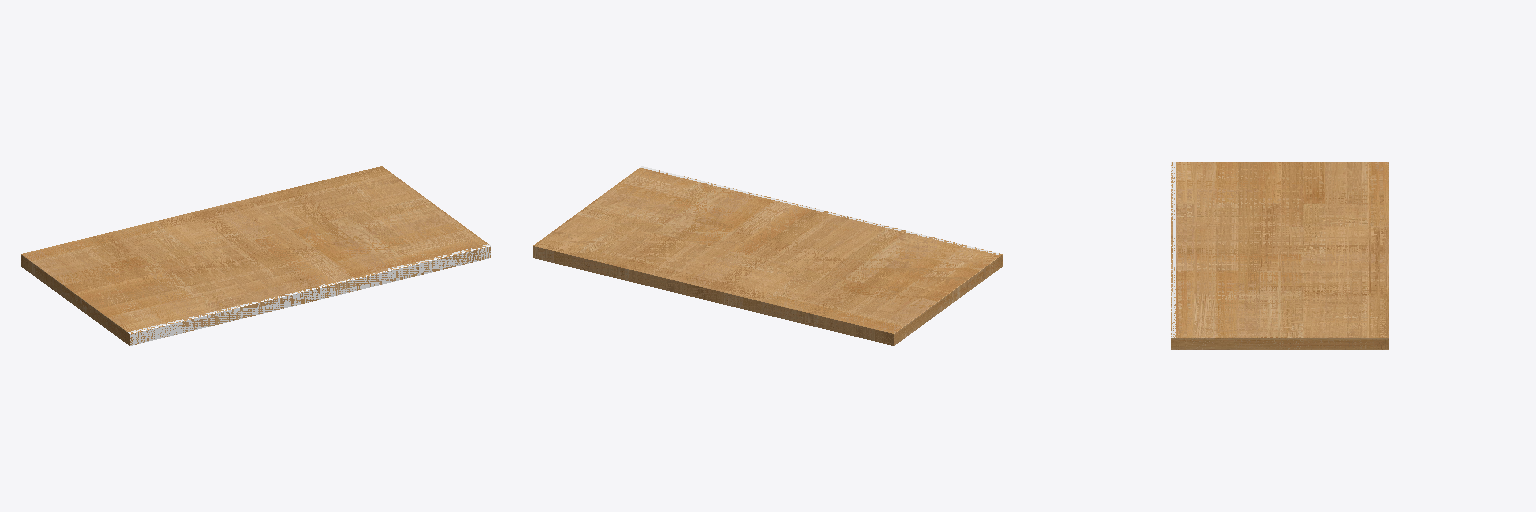
The picture shows the model from 3 angles: view 1: azimuth 30°, elevation 25°; view 2: azimuth 150°, elevation 25°; view 3: azimuth 270°, elevation 25°; orthographic projection.
Parts seen in each view (by area): view 1: mesh273/mesh273-geometry#mesh273-geometry; view 2: mesh273/mesh273-geometry#mesh273-geometry; view 3: mesh273/mesh273-geometry#mesh273-geometry.
Part boxes in pixels (bbox=[...]): mesh273/mesh273-geometry#mesh273-geometry: bbox=[21, 166, 490, 345]; mesh273/mesh273-geometry#mesh273-geometry: bbox=[533, 166, 1002, 345]; mesh273/mesh273-geometry#mesh273-geometry: bbox=[1171, 162, 1388, 349].
Size of the model in its own units: 1.36 by 0.0446 by 0.713.
3 materials, 2 textured.